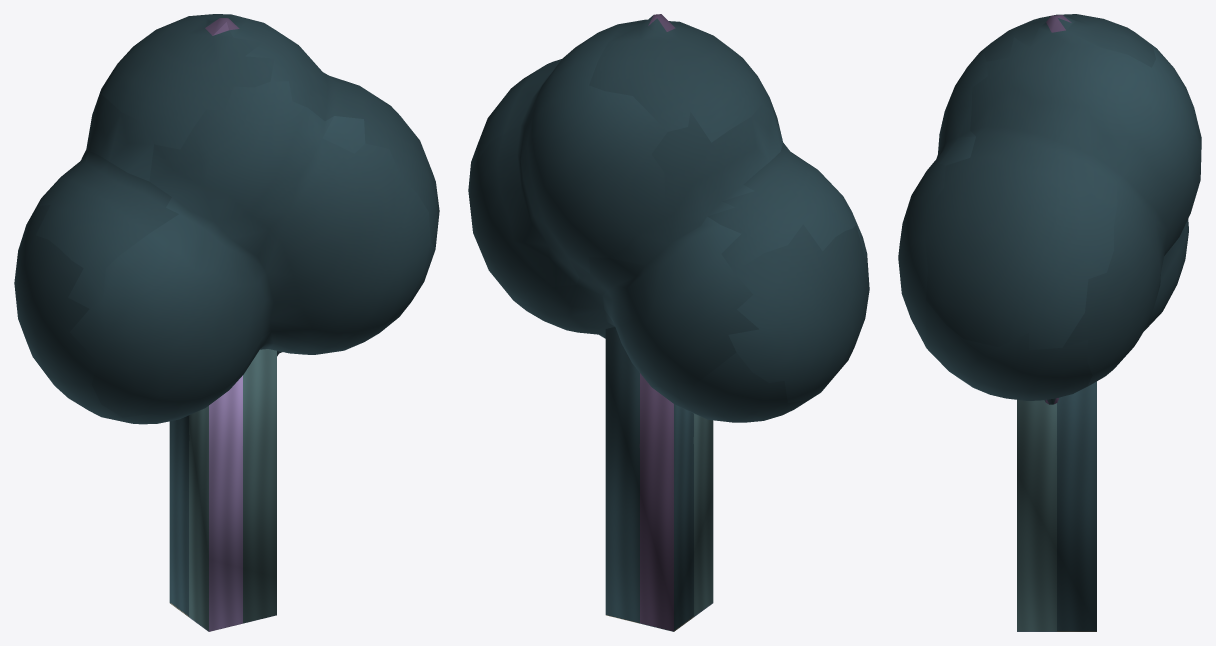
Rendered from tree_crooked_c.glb.
3 renders of one model, left to right at view 1: azimuth 30°, elevation 25°; view 2: azimuth 150°, elevation 25°; view 3: azimuth 270°, elevation 25°, orthographic.
Visible parts, largest first — view 1: lod0, col; view 2: lod0, col; view 3: lod0, col.
Boxes of the visible parts, x1,y1,x2,y2 form: lod0: (14,14,439,424); col: (169,349,276,631); lod0: (468,14,869,422); col: (605,327,713,631); lod0: (898,14,1201,404); col: (1017,381,1096,631).
Size of what is drawn, in the model's own units: 3.32 by 4.97 by 2.28.
2 materials, 2 textured.
